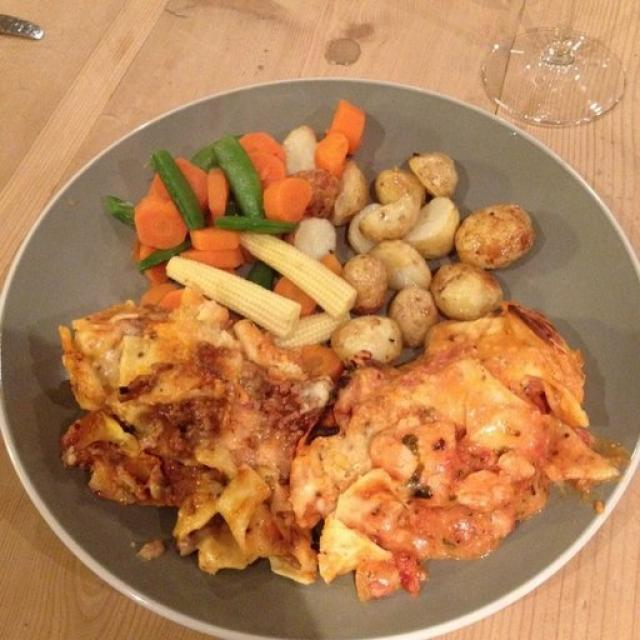Lasagna: (74, 309, 323, 564)
